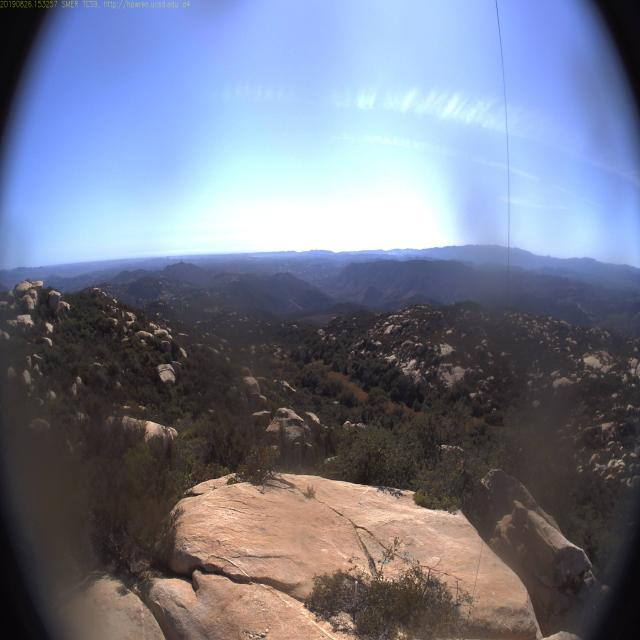smoke: (387, 248, 398, 259)
